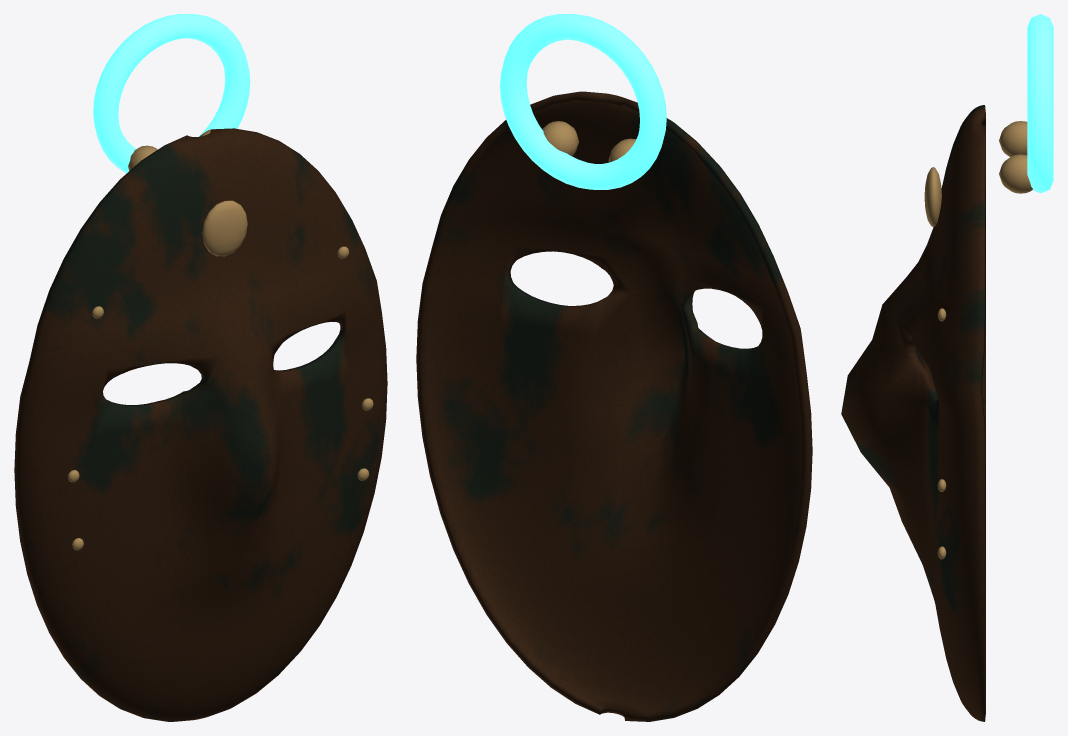
File: mask.fbx
The picture shows the model from 3 angles, left to right: view 1: azimuth 30°, elevation 25°; view 2: azimuth 150°, elevation 25°; view 3: azimuth 270°, elevation 25°; orthographic projection. The views are drawn at different scales.
Visible parts, largest first — view 1: Reviewed_mask_Body.059, TH_S_Mask_Handle.059; view 2: Reviewed_mask_Body.059, TH_S_Mask_Handle.059; view 3: Reviewed_mask_Body.059, TH_S_Mask_Handle.059.
Part boxes in pixels (x1,y1,x2,y2): Reviewed_mask_Body.059: (14,128,387,721); TH_S_Mask_Handle.059: (93,14,250,173); Reviewed_mask_Body.059: (416,91,812,721); TH_S_Mask_Handle.059: (500,14,666,189); Reviewed_mask_Body.059: (841,105,1032,721); TH_S_Mask_Handle.059: (1027,14,1053,193).
Size of the model in its own units: 0.1968 by 0.3452 by 0.097.
3 materials, 1 textured.
